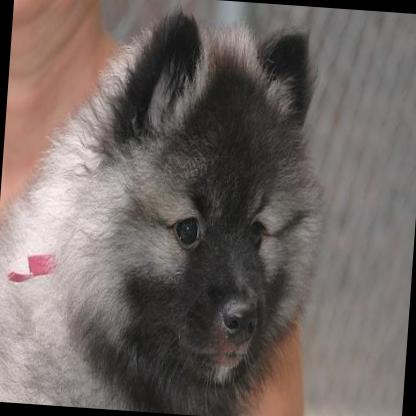keeshond: (0, 0, 337, 416)
